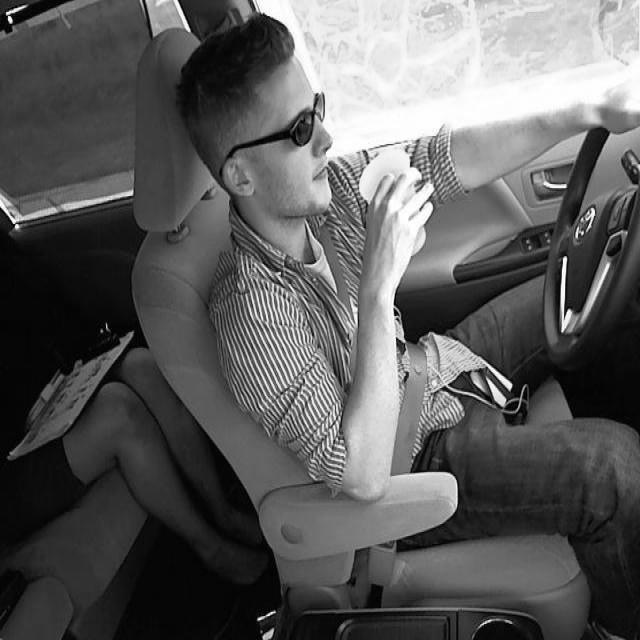Drinking: (359, 147, 428, 256)
